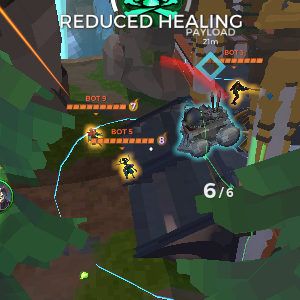model: (86, 123, 105, 152), (115, 154, 137, 178), (231, 75, 244, 106)
